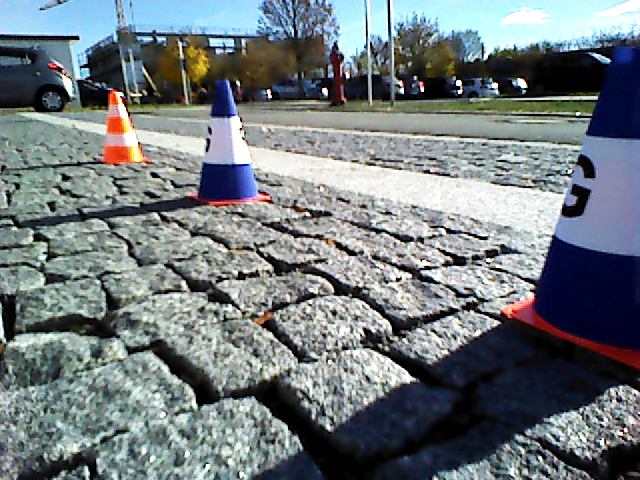bluecone: (542, 44, 640, 346), (198, 79, 256, 198)
orangeconesmall: (101, 91, 146, 164)
